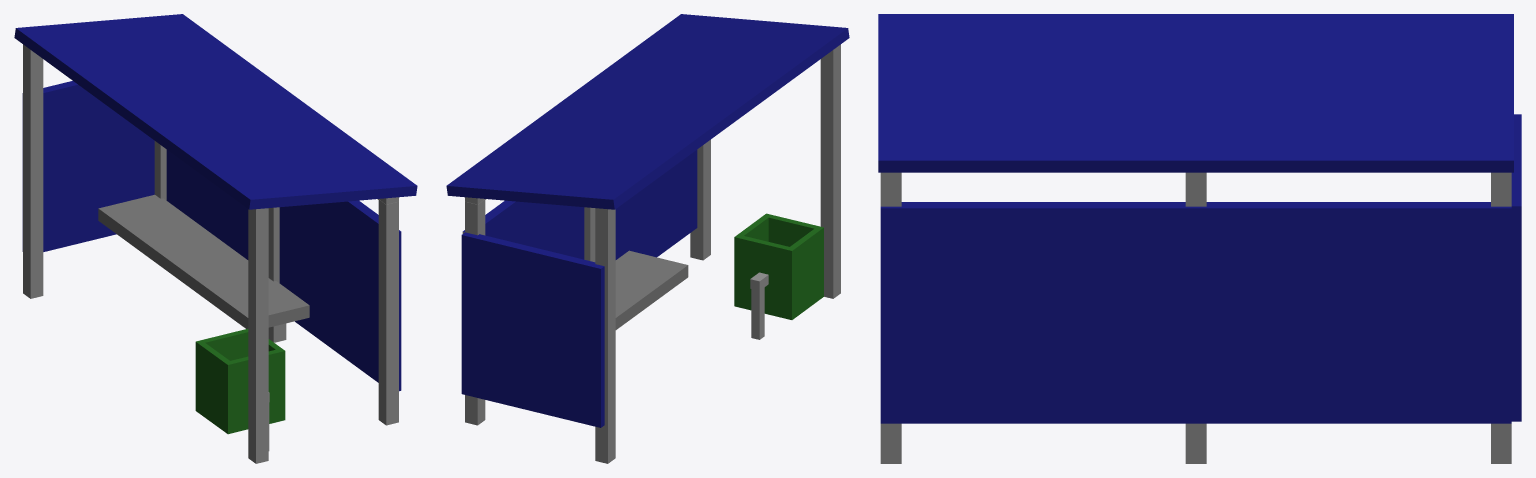
The model's file is halt.fbx.
The picture shows the model from 3 angles, left to right: view 1: azimuth 30°, elevation 25°; view 2: azimuth 150°, elevation 25°; view 3: azimuth 270°, elevation 25°; orthographic projection. The views are drawn at different scales.
Parts seen in each view (by area): view 1: halt, bench, wastebasket; view 2: halt, wastebasket, bench; view 3: halt.
Boxes of the visible parts, x1,y1,x2,y2 form: halt: (14, 14, 417, 463); bench: (98, 194, 309, 328); wastebasket: (195, 328, 285, 450); halt: (446, 14, 849, 463); wastebasket: (734, 213, 823, 339); bench: (615, 250, 688, 329); halt: (878, 14, 1521, 463).
Size of the model in its own units: 259 by 397 by 632.
